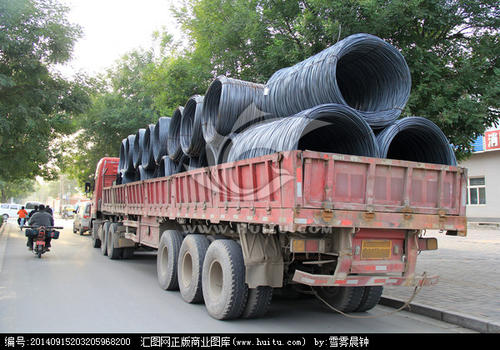chaozhai: (82, 31, 469, 324)
